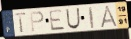A: (100, 5, 120, 29)
E: (48, 9, 67, 32)
I: (88, 6, 95, 30)
P: (29, 10, 45, 33)
T: (14, 11, 28, 34)
U: (65, 7, 81, 30)
